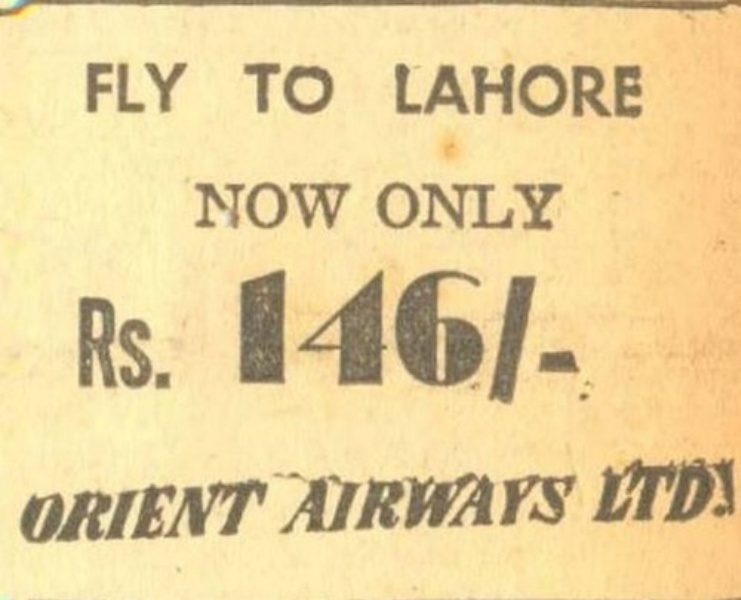text: (241, 267, 256, 406), (257, 267, 272, 406), (273, 267, 288, 406), (289, 267, 304, 406), (305, 267, 320, 406), (321, 267, 336, 406), (337, 267, 352, 406), (353, 267, 368, 406), (369, 267, 384, 406), (385, 267, 400, 406), (401, 267, 416, 406), (417, 267, 432, 406), (433, 267, 448, 406), (449, 267, 464, 406), (465, 267, 480, 406), (481, 267, 496, 406), (497, 267, 512, 406), (513, 267, 528, 406), (529, 267, 544, 406), (545, 267, 560, 406), (561, 267, 576, 406), (81, 295, 96, 393), (97, 295, 112, 393), (113, 295, 128, 393), (129, 295, 144, 393), (145, 295, 160, 393), (161, 295, 175, 393), (721, 454, 737, 521), (609, 458, 624, 526), (625, 458, 640, 526), (641, 458, 656, 526), (657, 458, 672, 526), (673, 458, 688, 526), (689, 458, 704, 526), (705, 458, 720, 526), (33, 478, 48, 544), (49, 478, 64, 544), (65, 478, 80, 544), (81, 478, 96, 544), (97, 478, 112, 544), (113, 478, 128, 544), (129, 478, 144, 544), (145, 478, 160, 544), (161, 478, 176, 544), (177, 478, 192, 544), (193, 478, 208, 544), (209, 478, 224, 544), (225, 478, 240, 544), (241, 478, 256, 544), (321, 472, 336, 534), (337, 472, 352, 534), (353, 472, 368, 534), (369, 472, 384, 534), (385, 472, 400, 534), (401, 472, 416, 534), (417, 472, 432, 534), (433, 472, 448, 534), (449, 472, 464, 534), (465, 472, 480, 534), (481, 472, 496, 534), (497, 472, 512, 534), (513, 472, 528, 534), (529, 472, 544, 534), (545, 472, 560, 534), (561, 472, 576, 534), (257, 478, 270, 544), (257, 61, 272, 116), (273, 61, 288, 116), (289, 61, 304, 116), (305, 61, 320, 116), (401, 63, 416, 118), (417, 63, 432, 118), (433, 63, 448, 118), (449, 63, 464, 118), (465, 63, 480, 118), (481, 63, 496, 118), (497, 63, 512, 118), (513, 63, 528, 118), (529, 63, 544, 118), (545, 63, 560, 118), (561, 63, 576, 118), (577, 63, 592, 118), (593, 63, 608, 118), (609, 63, 624, 118), (625, 63, 640, 118), (721, 458, 733, 526), (97, 61, 112, 115), (113, 61, 128, 115), (129, 61, 144, 115), (145, 61, 160, 115), (161, 61, 176, 115), (385, 178, 400, 232), (401, 178, 416, 232), (417, 178, 432, 232), (433, 178, 448, 232), (449, 178, 464, 232), (465, 178, 480, 232), (481, 178, 496, 232), (497, 178, 512, 232), (513, 178, 528, 232), (529, 178, 544, 232), (545, 178, 560, 232), (321, 61, 335, 116), (337, 183, 353, 230), (209, 183, 224, 230), (225, 183, 240, 230), (241, 183, 256, 230), (257, 183, 272, 230), (273, 183, 288, 230), (289, 183, 304, 230), (305, 183, 320, 230), (321, 183, 336, 230), (309, 472, 320, 534), (244, 61, 256, 116), (177, 61, 189, 115), (599, 458, 608, 526), (195, 183, 208, 230), (86, 61, 96, 115), (374, 178, 384, 232), (713, 454, 720, 521), (577, 267, 580, 406), (238, 267, 240, 406), (395, 63, 400, 118), (577, 472, 581, 534), (641, 63, 645, 118), (561, 178, 565, 232), (29, 478, 32, 544), (78, 295, 80, 393)
